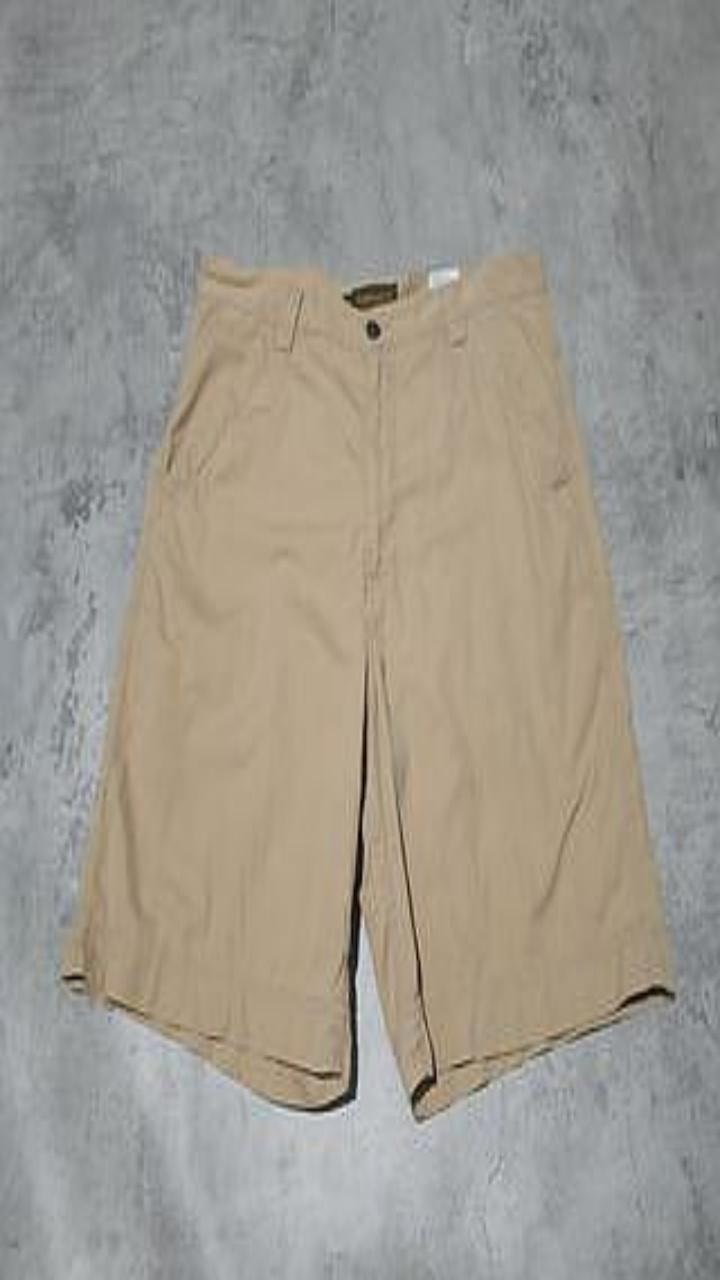Shorts: (61, 252, 674, 1119)
